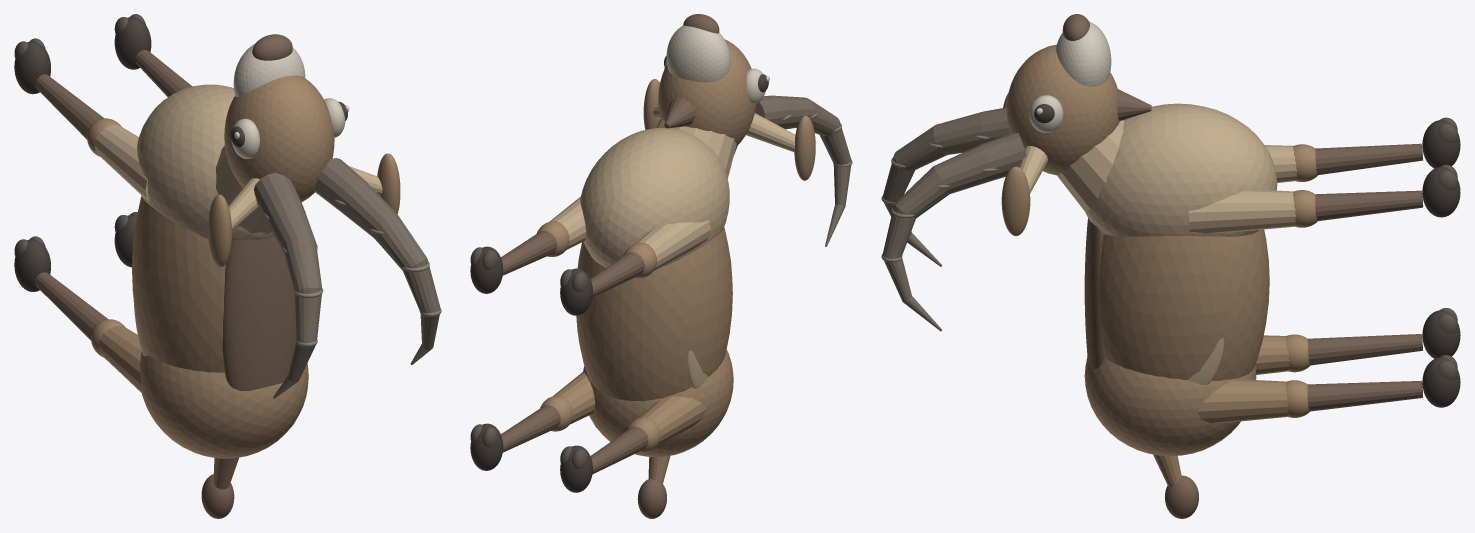
Rendered from nubian_ibex_game_character.glb.
3 views of the same model, side by side, from view 1: azimuth 30°, elevation 25°; view 2: azimuth 150°, elevation 25°; view 3: azimuth 270°, elevation 25° (orthographic). The views are drawn at different scales.
Visible parts, largest first — view 1: Torso_Main, Rump, Chest, Dorsal_Shading, Head, Horn_R, Horn_L, LegUpper_FL, Muzzle, LegUpper_HL, LegLower_HL, LegLower_FL (+14 smaller); view 2: Torso_Main, Chest, Rump, Head, Horn_L, Muzzle, LegUpper_FL, LegUpper_HL, LegLower_HR, LegLower_HL, LegLower_FR, LegLower_FL (+20 smaller); view 3: Torso_Main, Chest, Rump, Head, Horn_R, Horn_L, LegUpper_FR, LegUpper_HR, LegLower_HR, LegLower_HL, Neck, LegLower_FR (+19 smaller).
Boxes of the visible parts, x1,y1,x2,y2 form: Torso_Main: (132,195,225,372); Rump: (140,351,308,458); Chest: (137,84,274,240); Dorsal_Shading: (222,236,296,390); Head: (224,75,334,202); Horn_R: (314,158,440,364); Horn_L: (254,172,321,398); LegUpper_FL: (94,125,149,201); Muzzle: (233,43,305,96); LegUpper_HL: (98,325,141,392); LegLower_HL: (35,272,107,340); LegLower_FL: (35,74,103,139); Torso_Main: (576,227,732,401); Chest: (580,127,729,267); Rump: (583,349,733,457); Head: (658,39,756,146); Horn_L: (755,95,851,246); Muzzle: (666,25,730,82); LegUpper_FL: (635,220,710,270); LegUpper_HL: (639,396,706,445); LegLower_HR: (501,405,560,452); LegLower_HL: (590,426,648,474); LegLower_FR: (501,231,556,275); LegLower_FL: (590,252,644,297); Torso_Main: (1099,229,1269,380); Chest: (1085,103,1277,236); Rump: (1084,356,1256,456); Head: (1006,44,1119,175); Horn_R: (882,132,1026,331); Horn_L: (882,107,1010,266); LegUpper_FR: (1188,189,1296,233); LegUpper_HR: (1197,379,1288,423); LegLower_HR: (1307,381,1422,411); LegLower_HL: (1307,334,1422,365); Neck: (1057,120,1124,213); LegLower_FR: (1315,190,1423,220).
Bounding box in the file's own units: 1.09 × 2.9 × 3.04.
